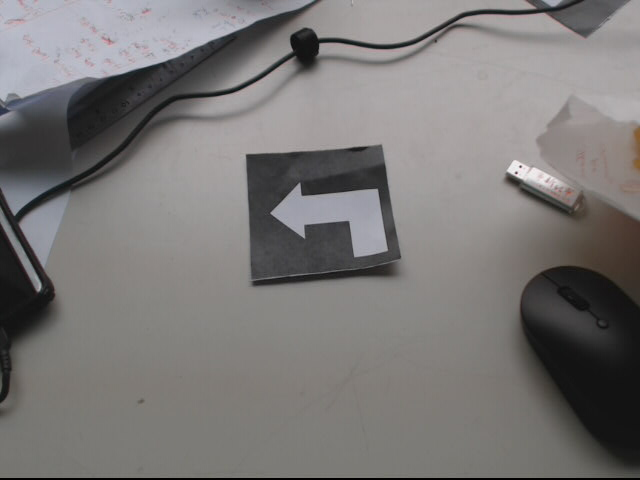left: (248, 144, 402, 283)
